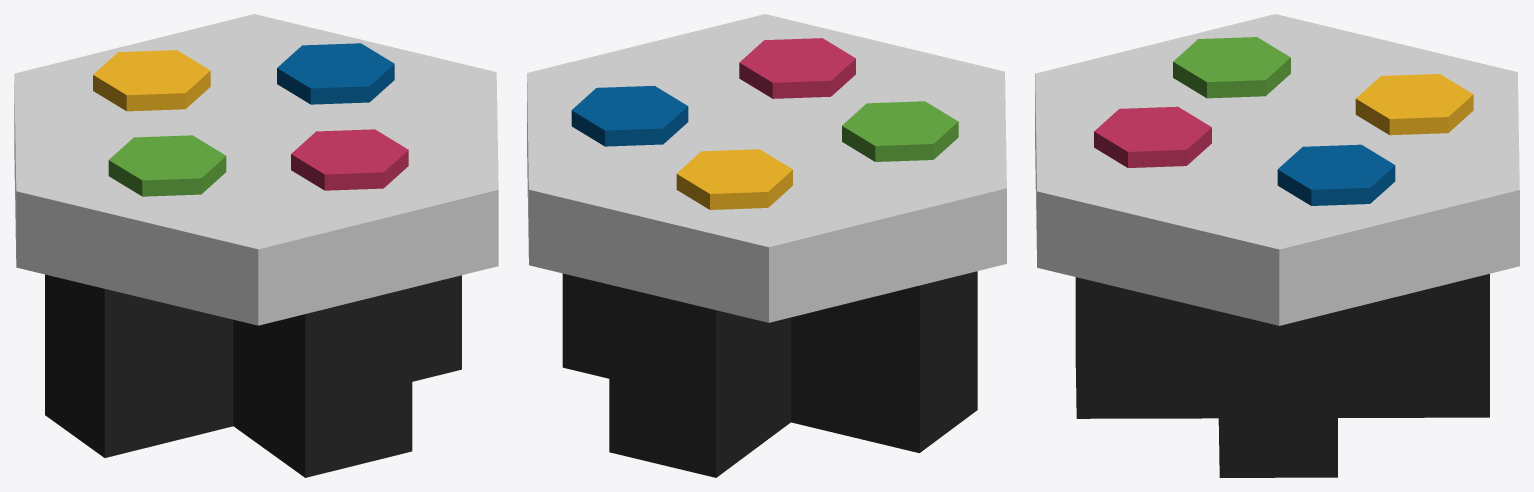
Rendered from ButtonsTable.glb.
The picture shows the model from 3 angles, left to right: view 1: azimuth 30°, elevation 25°; view 2: azimuth 150°, elevation 25°; view 3: azimuth 270°, elevation 25°; orthographic projection.
Parts seen in each view (by area): view 1: button_table; view 2: button_table; view 3: button_table.
Boxes of the visible parts, x1,y1,x2,y2 form: button_table: (14,14,498,477); button_table: (527,14,1006,477); button_table: (1035,14,1519,477).
Size of what is drawn, in the model's own units: 1.54 by 0.8476 by 1.34.
Materials: 1 (1 with a texture image).
